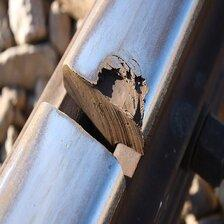railway-gap: (13, 49, 164, 199)
